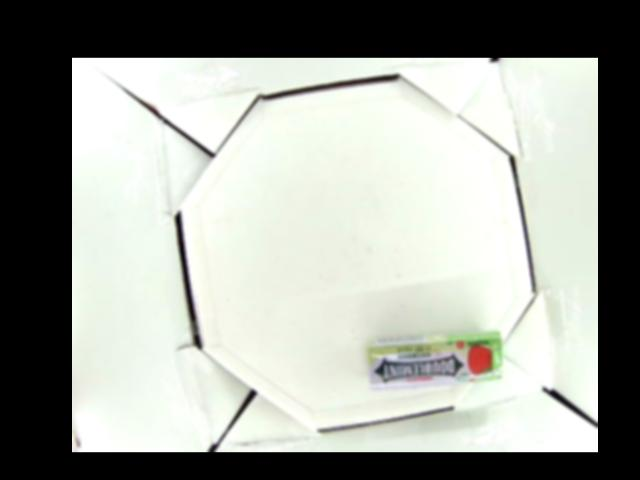Bottle: (367, 328, 505, 386)
